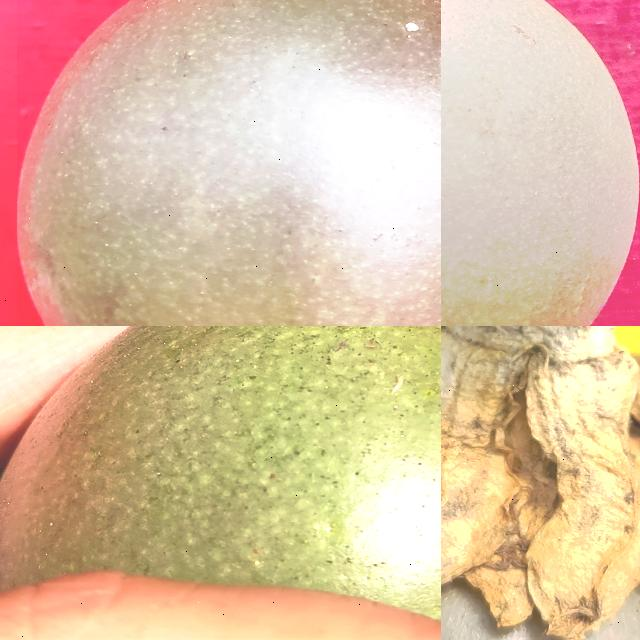Estado-1: (0, 326, 441, 620)
Estado-3: (441, 0, 640, 326)
Estado-4: (441, 326, 640, 640)
